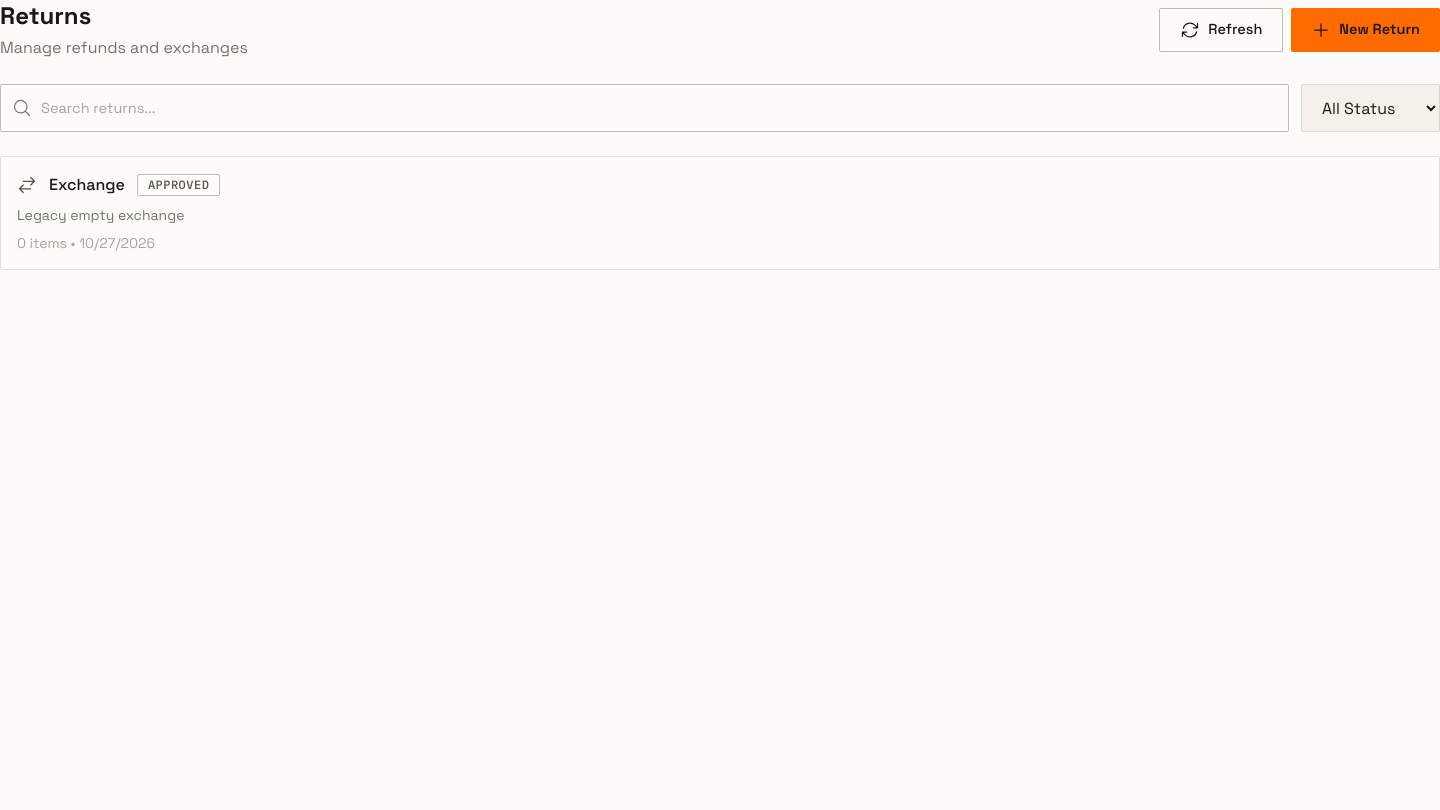
Test: blocks a persisted empty exchange and allows rejecting it instead
The image size is (1440, 810).
Step 1. Click the text "Legacy empty exchange" → (101, 215), box [17,206,184,224]
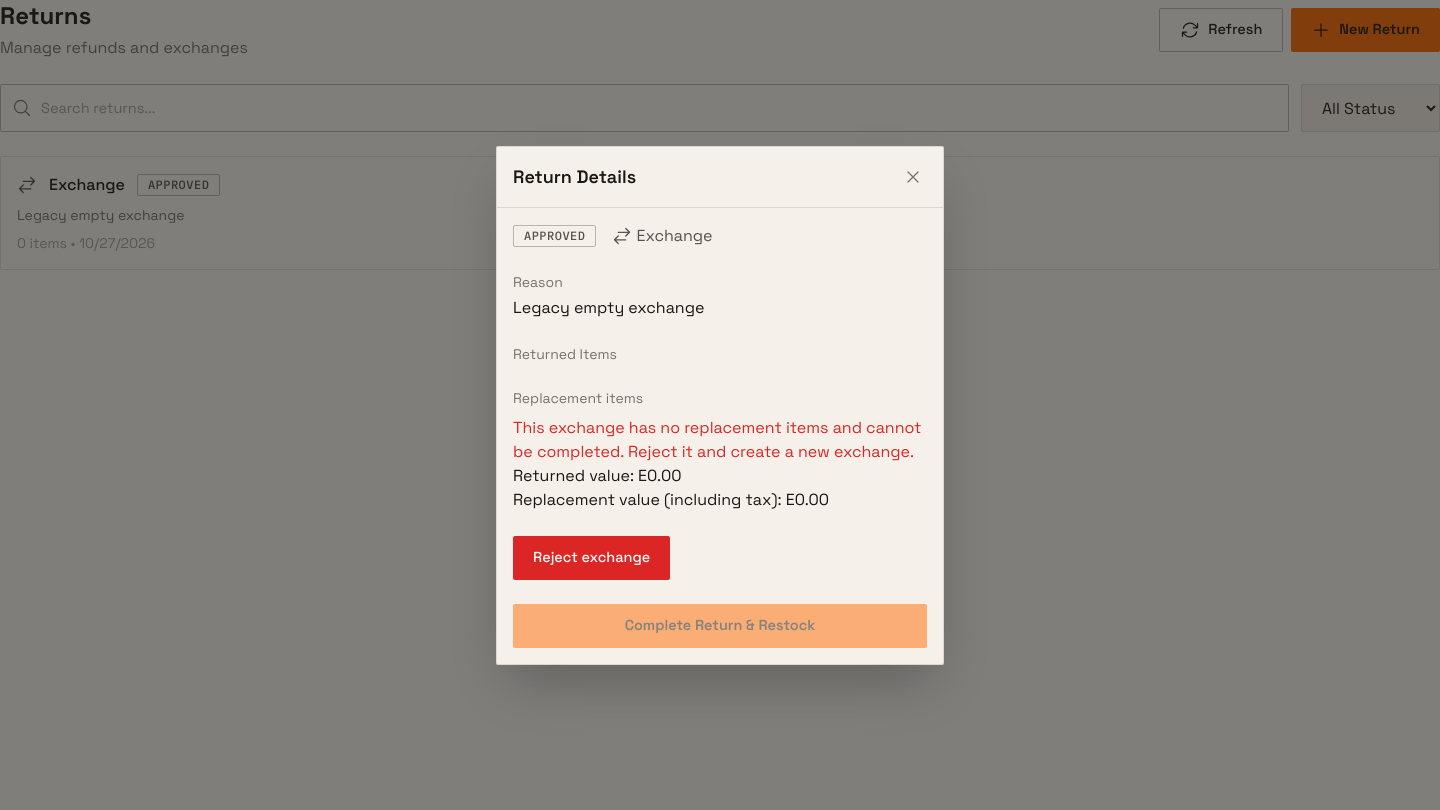
Now the text "This exchange has no replacement items" is shown, box [513,416,921,462]
Now the button "Complete Return & Restock" is disabled, box [513,604,927,648]
Step 2. Click the button "Reject exchange" → (592, 558), box [513,536,670,580]
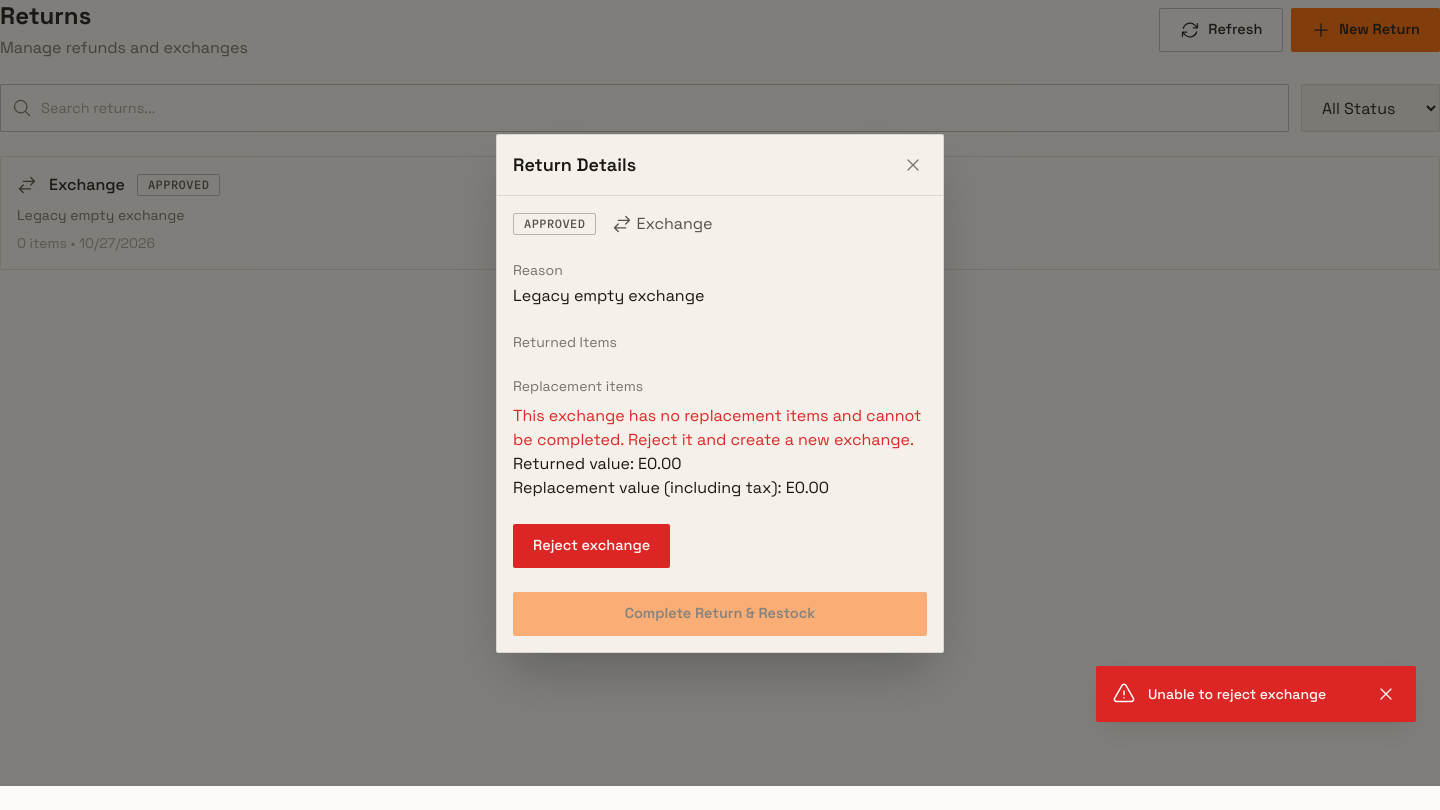
Now the text "Unable to reject exchange" is shown, box [1148,685,1326,703]
